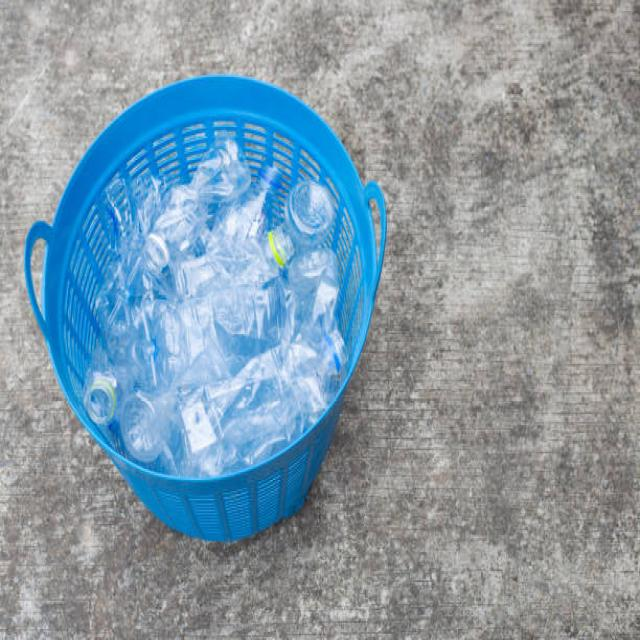plastic: (120, 178, 321, 418)
